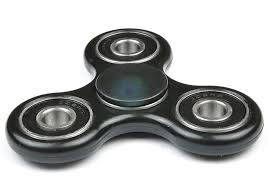fidget_spinner: (12, 13, 265, 183)
